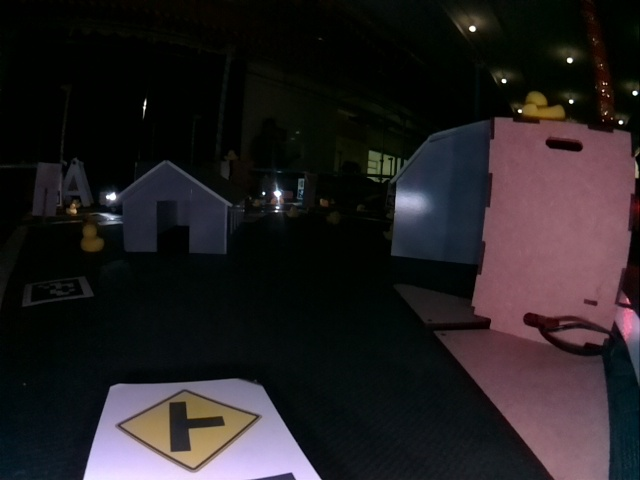Duckie: (525, 90, 566, 123), (81, 225, 103, 251), (68, 205, 77, 214)
Intersection sign: (115, 389, 262, 471)
QR code: (27, 279, 90, 306)
